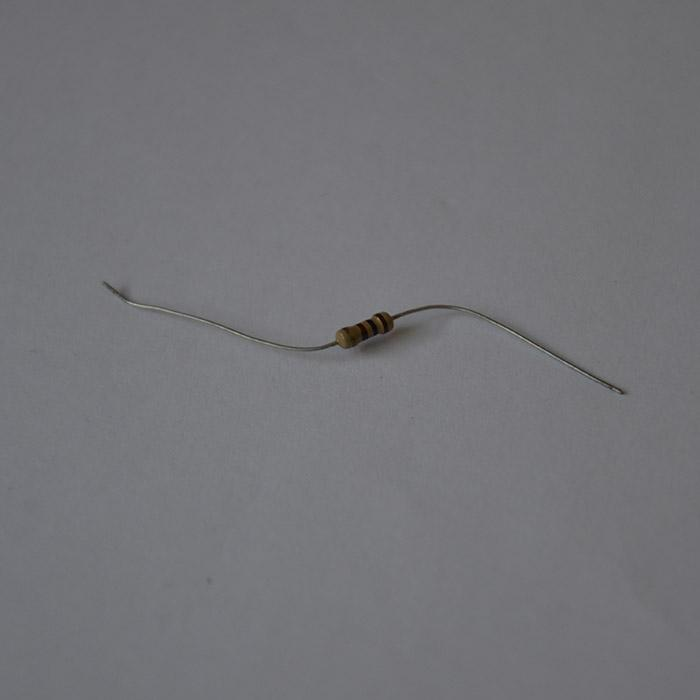resistor: (335, 310, 395, 349)
